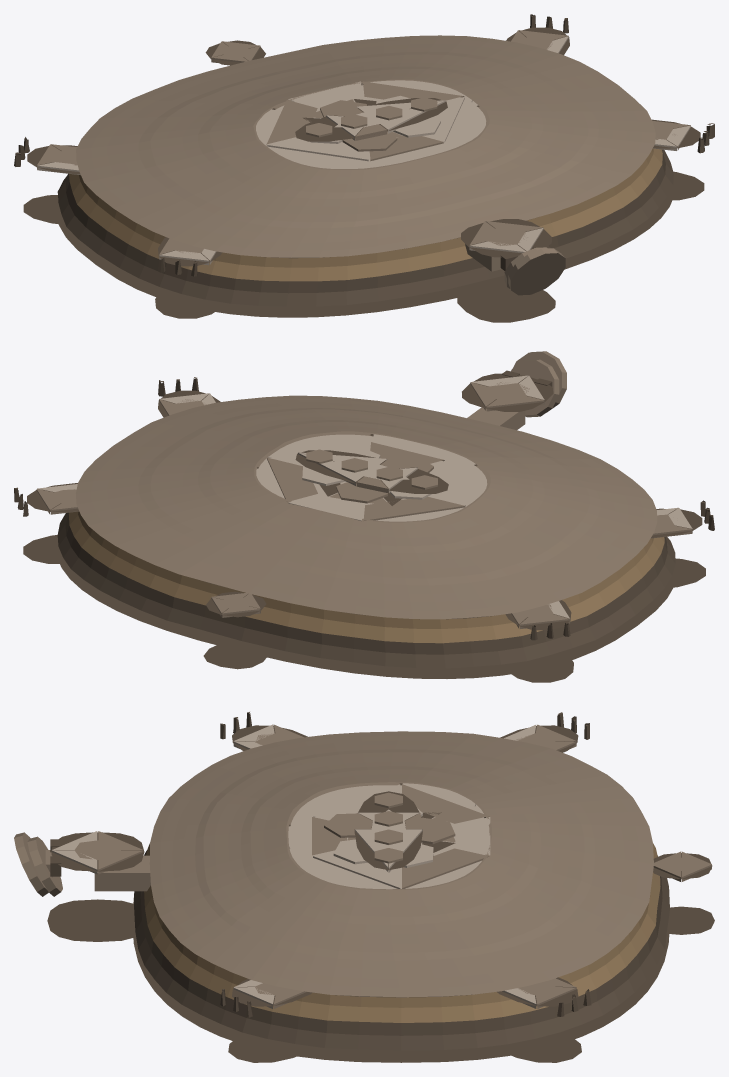
File: TurtleShellIsle.fbx
3 views of the same model, one above another, from view 1: azimuth 30°, elevation 25°; view 2: azimuth 150°, elevation 25°; view 3: azimuth 270°, elevation 25° (orthographic). The views are drawn at different scales.
Parts seen in each view (by area): view 1: TurtleShellIsle; view 2: TurtleShellIsle; view 3: TurtleShellIsle.
Part boxes in pixels (x1,y1,x2,y2): TurtleShellIsle: [14, 14, 714, 322]; TurtleShellIsle: [14, 351, 714, 682]; TurtleShellIsle: [14, 712, 714, 1062].
Size of the model in its own units: 4446 by 664 by 4504.
